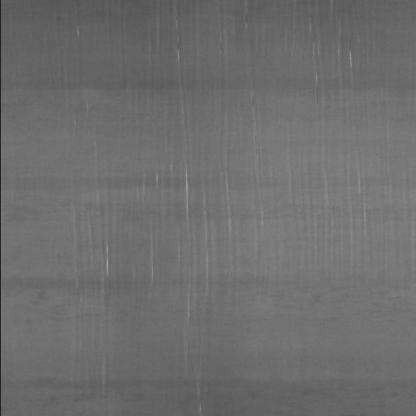waist_folding: (34, 18, 388, 382)
